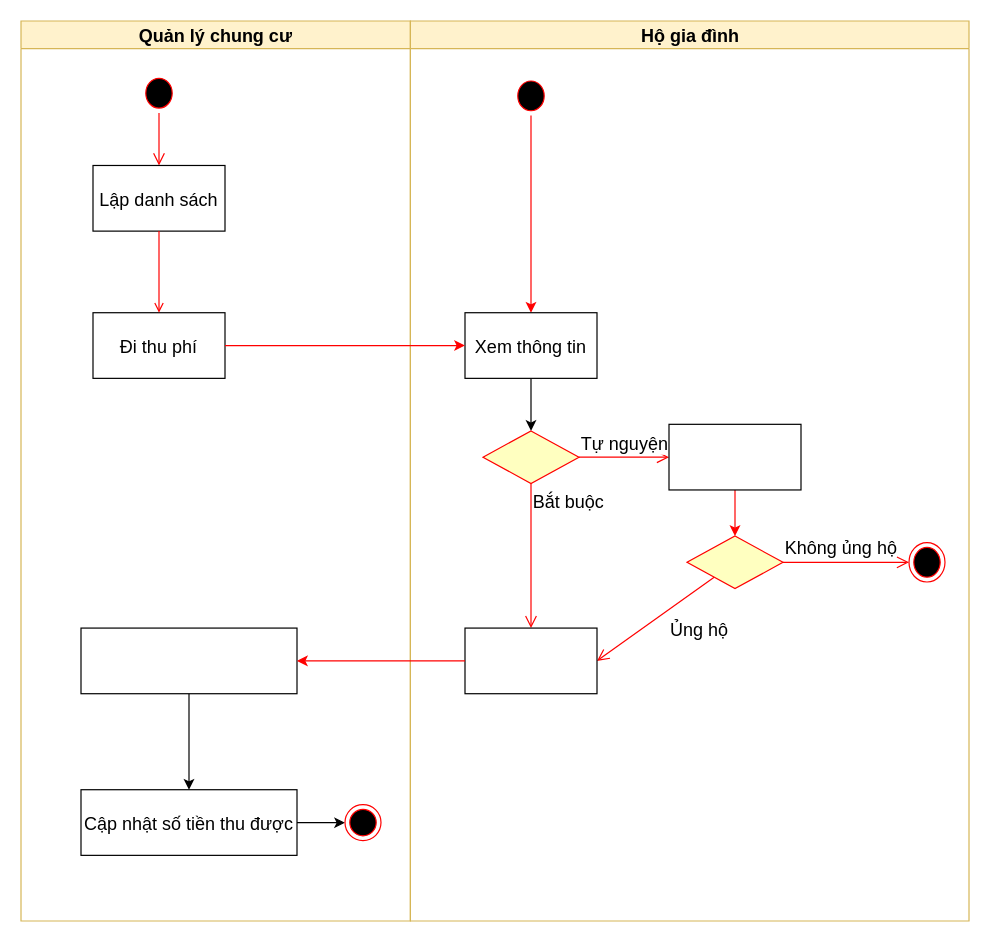
Some shapes in this 990 by 942 pixel diagram are drawn without their labels. The shapes that lost their labels are listed below. From the top down, each one's box as (x1, y1, x2, y2) in pixels, then its label:
(668, 423, 801, 490): Xem xét ủng hộ
(80, 627, 297, 694): Xác nhận số tiền đã nộp
(464, 627, 597, 694): Đóng khoản phí
